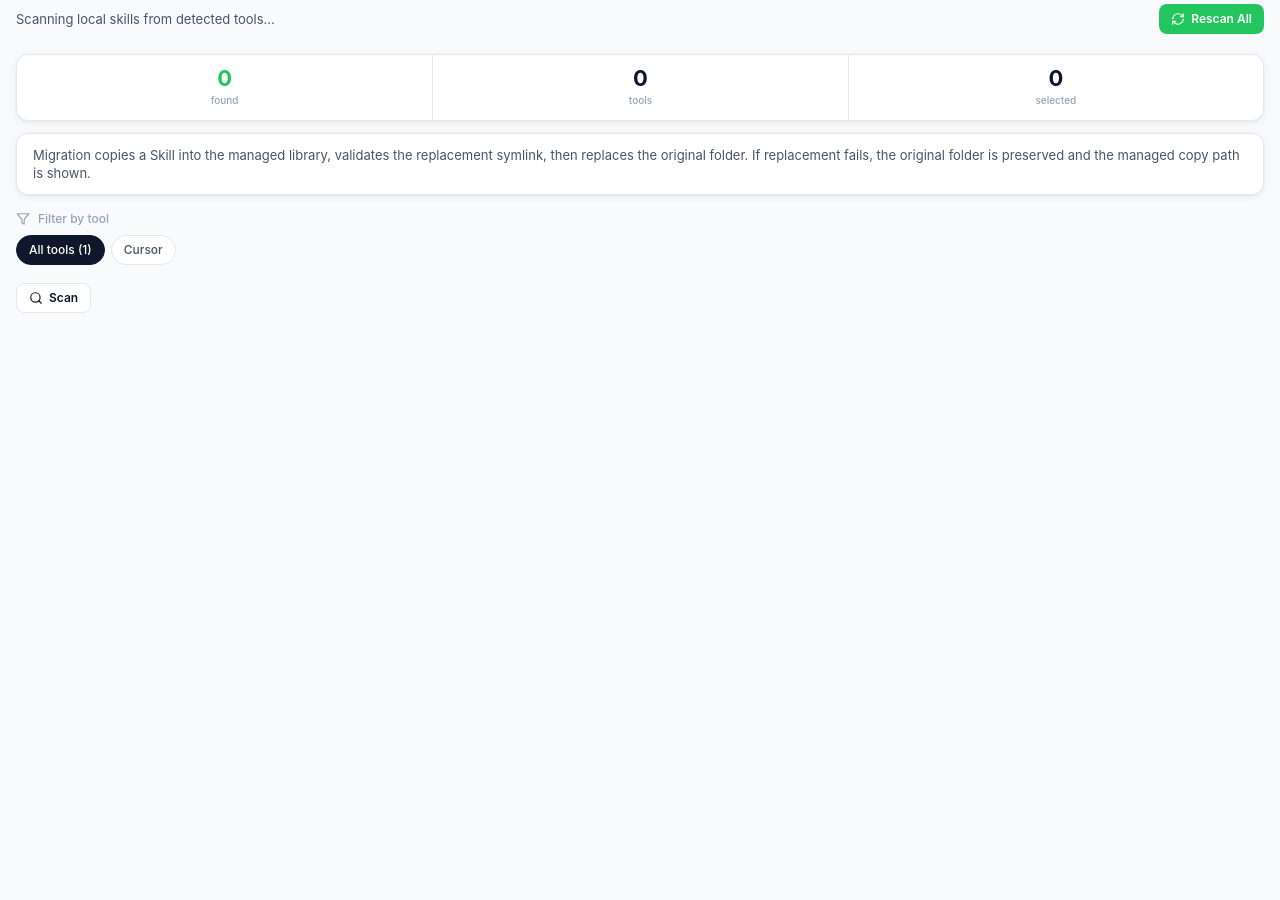
Scenario: MigratePage › keeps failed rows visible when a migration batch has mixed outcomes
The image size is (1280, 900).
Expected: the tab "Cursor" is shown, [111,235,176,265]
Click the button "Scan" at (54, 298), box [16,283,91,313]
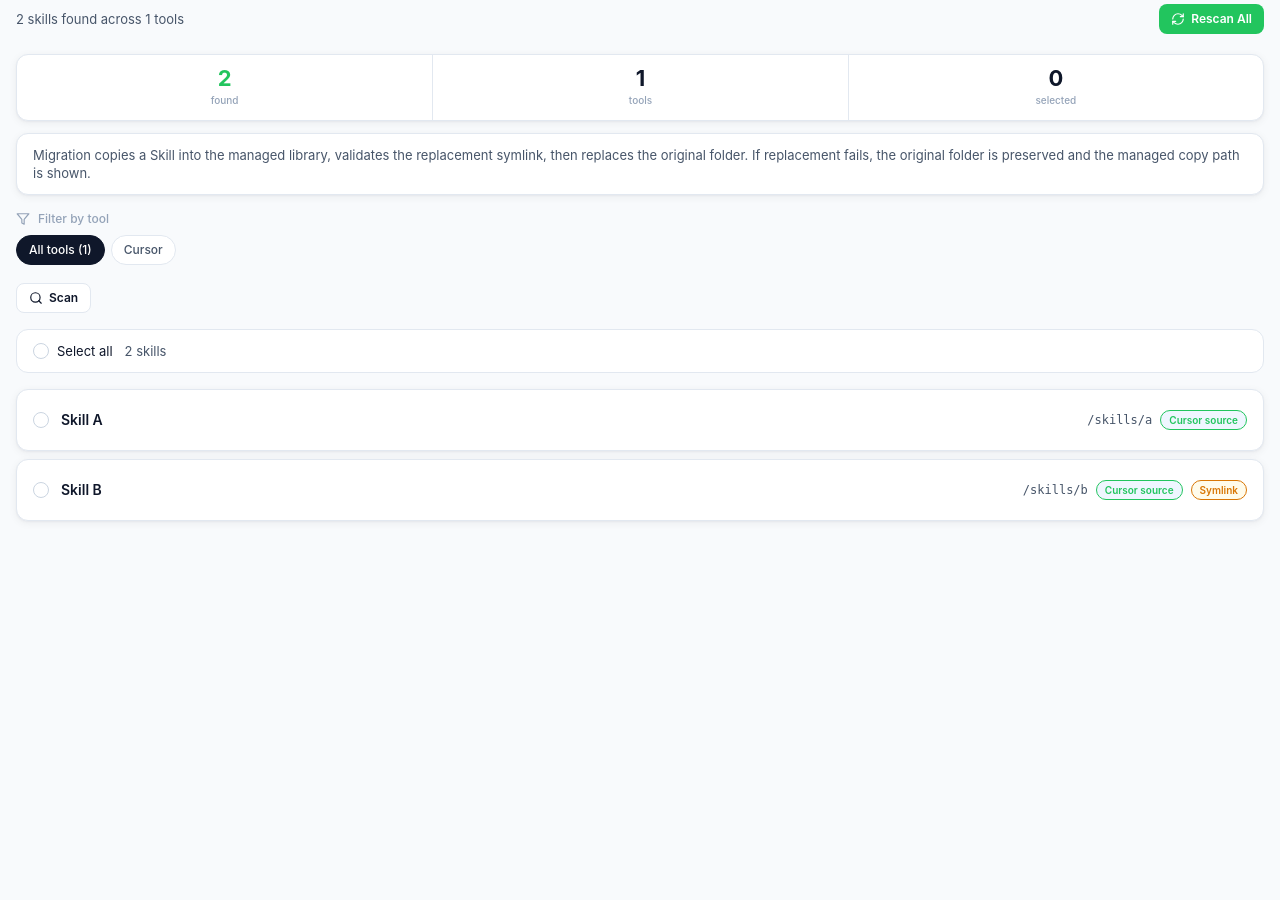
Now the text "Skill A" is shown, box [61,411,103,428]
Click the checkbox named "Select Skill A" at (41, 420), box [33,412,49,428]
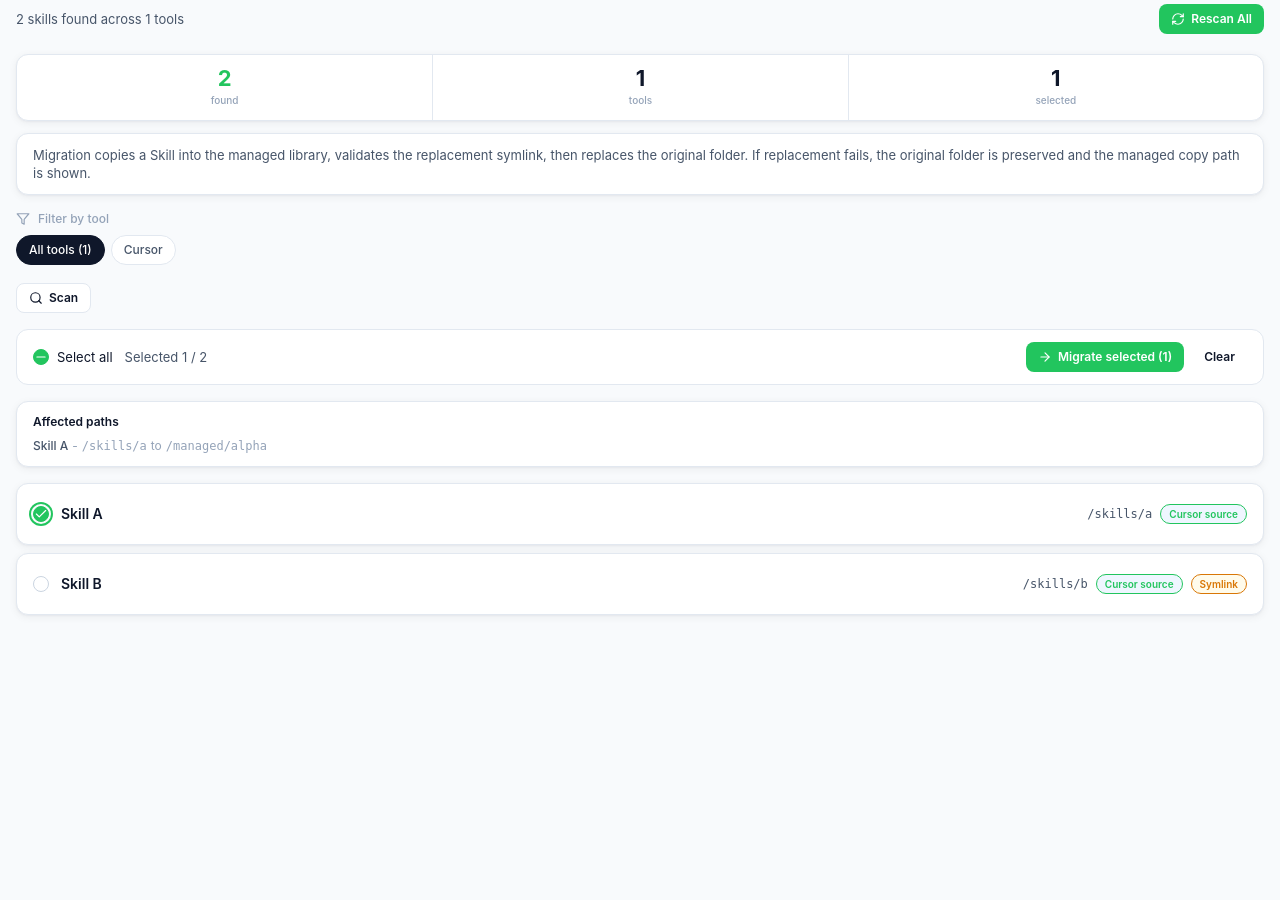
Click the checkbox named "Select Skill B" at (41, 584), box [33,576,49,592]
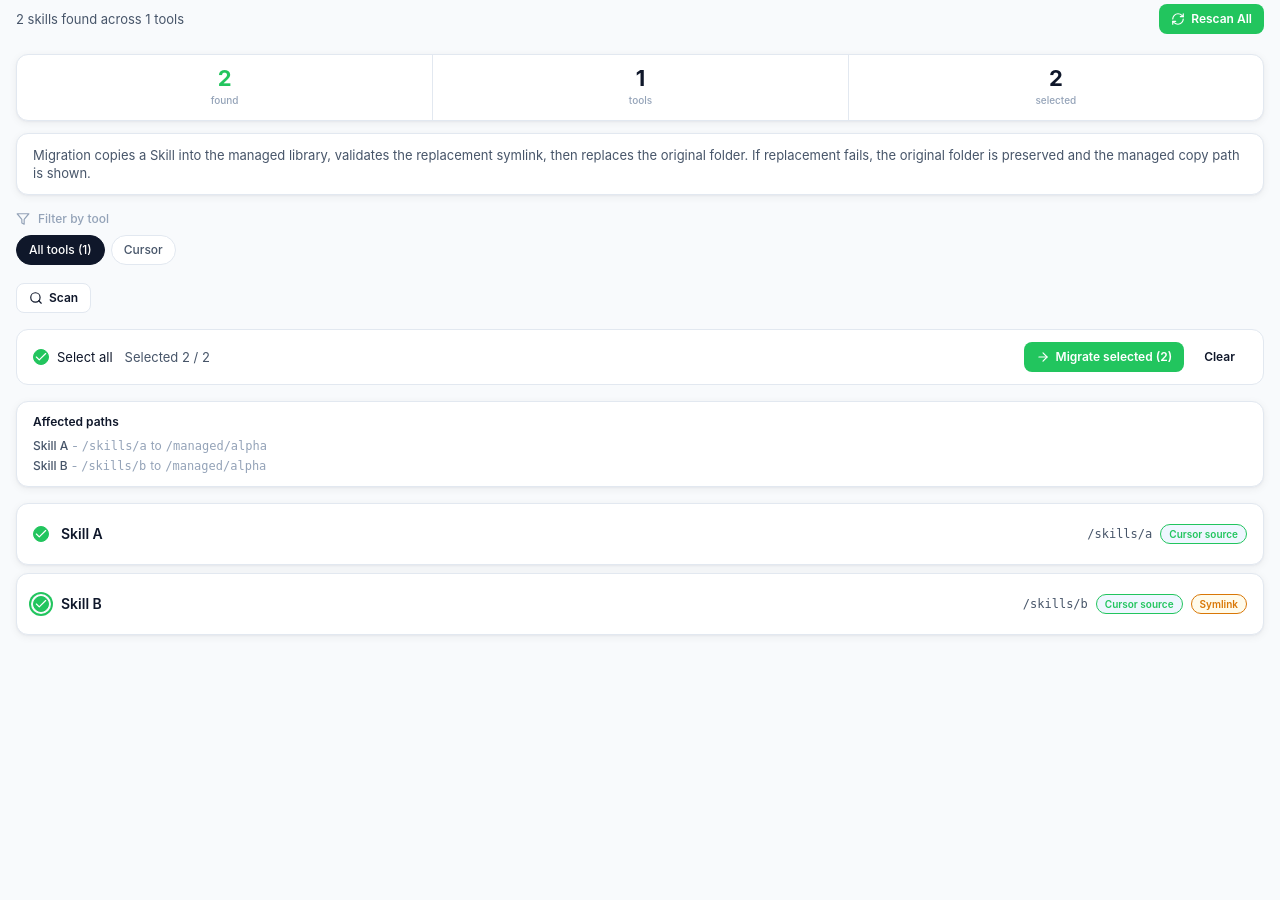
Click the button "Migrate selected (2)" at (1104, 357), box [1024,342,1184,372]
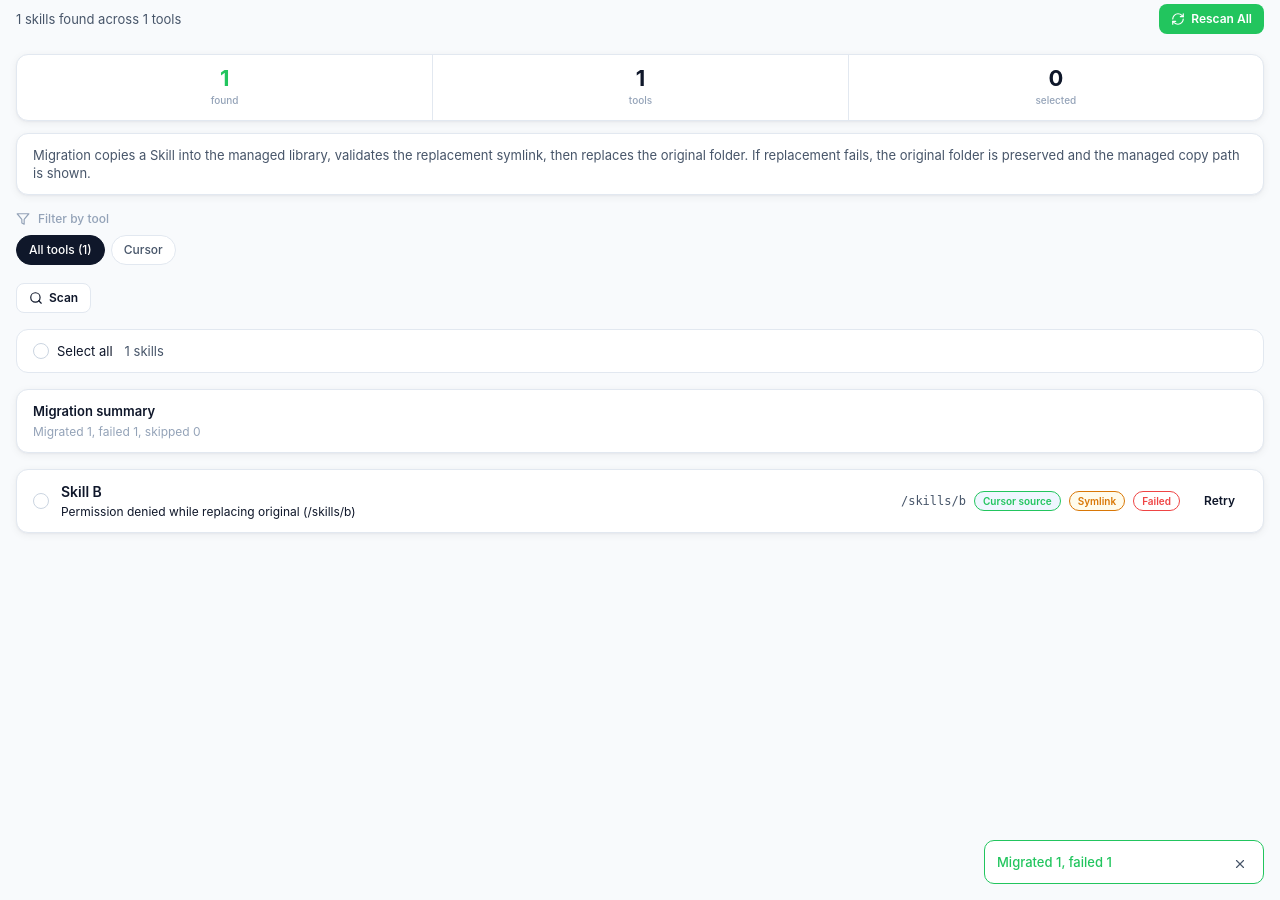
Now the text "Skill B" is shown, box [61,483,102,500]
Now the text "Skill A" is gone
Now the text "Permission denied while replacing original (/skills/b)" is shown, box [61,504,356,519]
